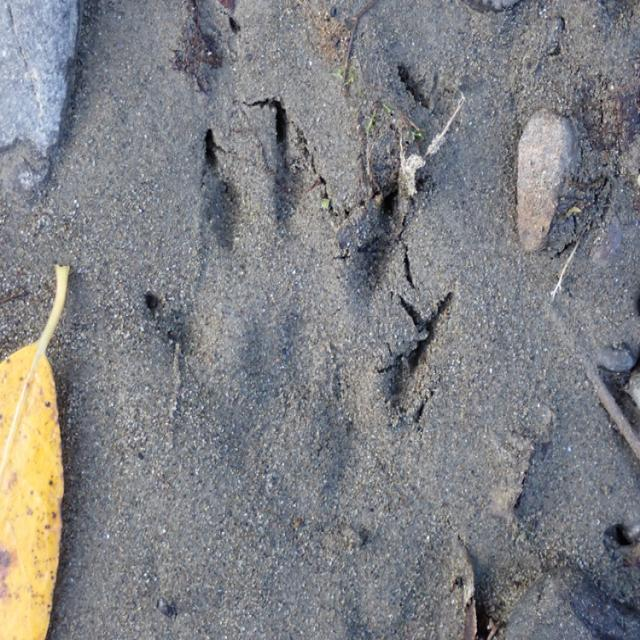mustelid: (142, 104, 444, 494)
